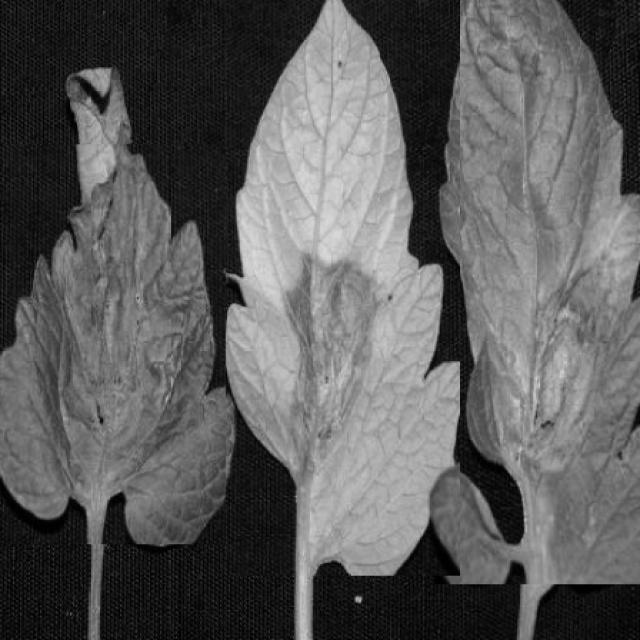Late Blight: (226, 0, 460, 576), (434, 0, 639, 584), (0, 145, 239, 544)
